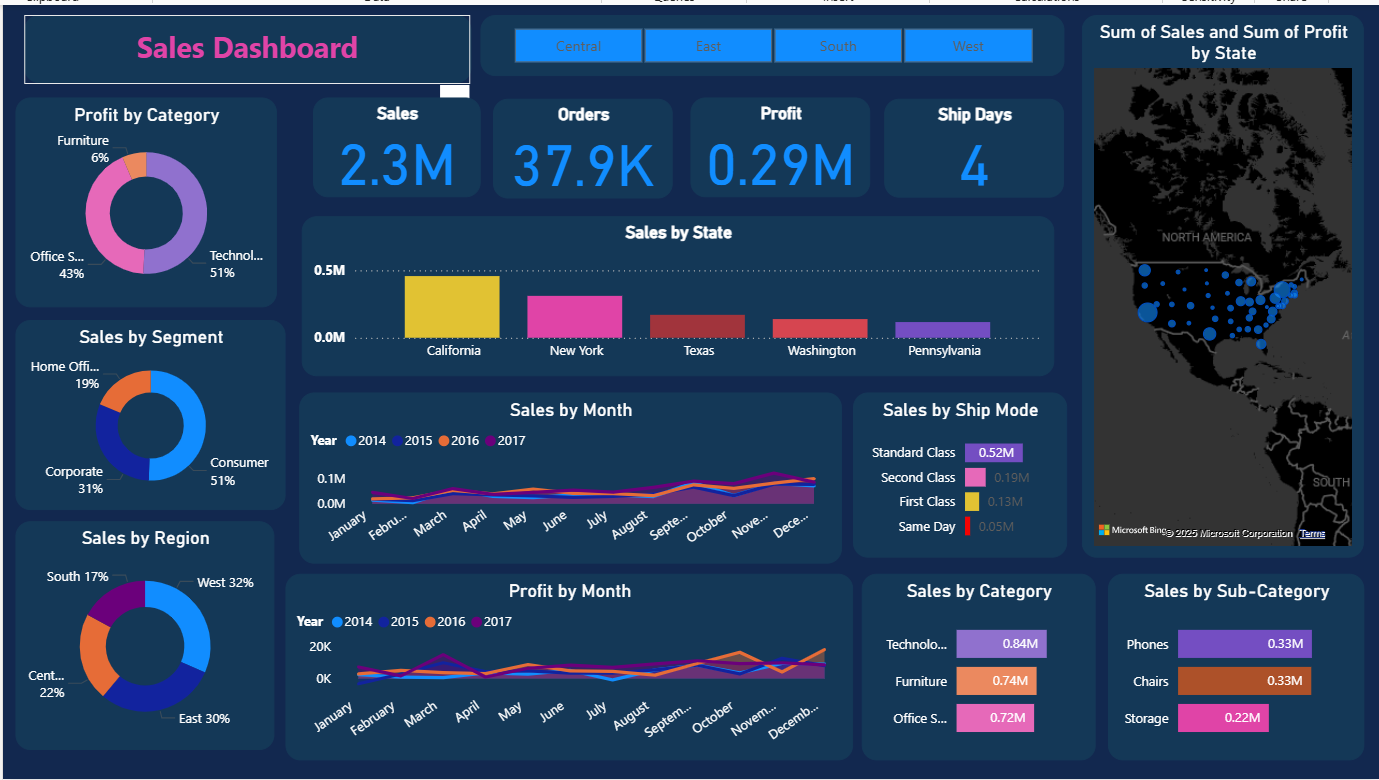

This screenshot's page, from the dashboard's own definition file:
{"tool":"powerbi","page":{"name":"Page 1","canvas":[1280,720],"ordinal":0},"visuals":[{"type":"clusteredBarChart","title":"Sales by Category","fields":{"Category":["Sample - Superstore.Category"],"Y":["Sum(Sample - Superstore.Sales)"]},"box":[798.8,529.1,217.4,173.3],"z":0},{"type":"clusteredBarChart","title":"Sales by Sub-Category","fields":{"Category":["Sample - Superstore.Sub-Category"],"Y":["Sum(Sample - Superstore.Sales)"]},"box":[1027.9,529.1,238.4,173.3],"z":1000},{"type":"clusteredBarChart","title":"Sales by Ship Mode","fields":{"Category":["Sample - Superstore.Ship Mode"],"Y":["Sum(Sample - Superstore.Sales)"]},"box":[790.7,360.5,198.8,153.5],"z":2000},{"type":"areaChart","title":" Sales by Month ","fields":{"Category":["Sample - Superstore.Order Date.Variation.Date Hierarchy.Month","Sample - Superstore.Order Date.Variation.Date Hierarchy.Day"],"Y":["Sum(Sample - Superstore.Sales)"],"Series":["Sample - Superstore.Order Date.Variation.Date Hierarchy.Year"]},"box":[275.6,360.5,504.7,159.3],"z":3000},{"type":"areaChart","title":" Profit by Month","fields":{"Category":["Sample - Superstore.Order Date.Variation.Date Hierarchy.Month","Sample - Superstore.Order Date.Variation.Date Hierarchy.Day"],"Series":["Sample - Superstore.Order Date.Variation.Date Hierarchy.Year"],"Y":["Sum(Sample - Superstore.Profit)"]},"box":[262.8,529.1,527.9,173.3],"z":4000},{"type":"map","fields":{"Category":["Sample - Superstore.State"],"Size":["Sum(Sample - Superstore.Sales)"]},"box":[1003.5,9.3,262.8,504.7],"z":4001},{"type":"donutChart","title":" Sales by Segment","fields":{"Category":["Sample - Superstore.Segment"],"Y":["Sum(Sample - Superstore.Sales)"]},"box":[11.6,293,251.2,176.7],"z":4002},{"type":"donutChart","title":" Sales by Region","fields":{"Y":["Sum(Sample - Superstore.Sales)"],"Category":["Sample - Superstore.Region"]},"box":[11.6,480.2,240.7,212.8],"z":4003},{"type":"slicer","fields":{"Values":["Sample - Superstore.Region"]},"box":[444.2,9.3,543,57],"z":4004},{"type":"textbox","box":[19.2,9.6,415.8,63.1],"z":4005},{"type":"card","title":"Sales","fields":{"Values":["Sum(Sample - Superstore.Sales)"]},"box":[288.4,86,155.8,93],"z":4006},{"type":"card","title":"Profit","fields":{"Values":["Sum(Sample - Superstore.Profit)"]},"box":[639.5,86,167.4,93],"z":4007},{"type":"card","title":"Orders","fields":{"Values":["Sum(Sample - Superstore.Quantity)"]},"box":[455.8,87.2,167.4,93],"z":4008},{"type":"card","title":"Ship  Days","fields":{"Values":["Avg(Sample - Superstore.AvgDelivery)"]},"box":[819.8,87.2,167.4,91.9],"z":4009},{"type":"donutChart","title":"Profit by Category","fields":{"Category":["Sample - Superstore.Category"],"Y":["Sum(Sample - Superstore.Profit)"]},"box":[11.6,86,243,195.3],"z":4010},{"type":"clusteredColumnChart","title":" Sales by State","fields":{"Category":["Sample - Superstore.State"],"Y":["Sum(Sample - Superstore.Sales)"]},"box":[277.9,196.5,700,148.8],"z":4011}]}

Visuals, with their boxes on the page's 1280x720 design canvas (x1, y1, x2, y2). These are canvas units, not pixel positions in the 1379x780 screenshot, which may show the page scaled, cropped or inside an application window:
"Sales by Category" clusteredBarChart: 799 529 1016 702
"Sales by Sub-Category" clusteredBarChart: 1028 529 1266 702
"Sales by Ship Mode" clusteredBarChart: 791 360 990 514
" Sales by Month " areaChart: 276 360 780 520
" Profit by Month" areaChart: 263 529 791 702
map - Sample - Superstore.State x Sum(Sample - Superstore.Sales): 1004 9 1266 514
" Sales by Segment" donutChart: 12 293 263 470
" Sales by Region" donutChart: 12 480 252 693
slicer - Sample - Superstore.Region: 444 9 987 66
textbox: 19 10 435 73
"Sales" card: 288 86 444 179
"Profit" card: 640 86 807 179
"Orders" card: 456 87 623 180
"Ship  Days" card: 820 87 987 179
"Profit by Category" donutChart: 12 86 255 281
" Sales by State" clusteredColumnChart: 278 196 978 345
